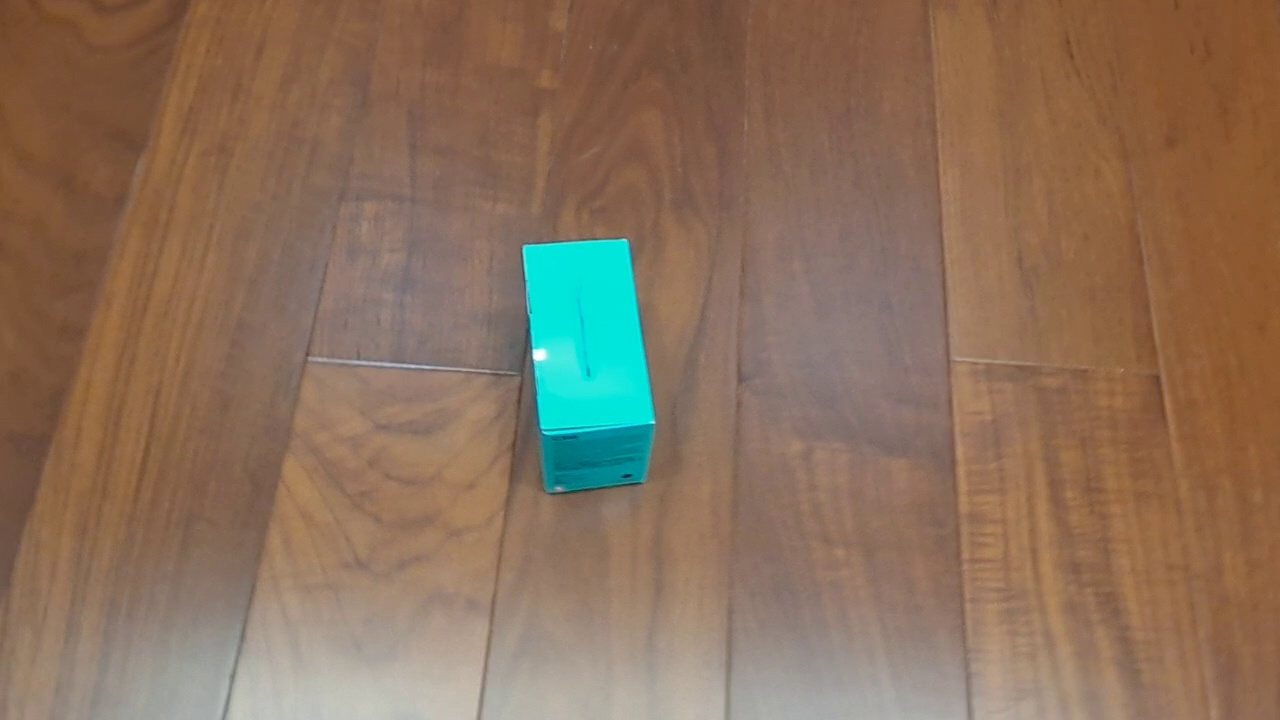webcam: (520, 237, 657, 495)
